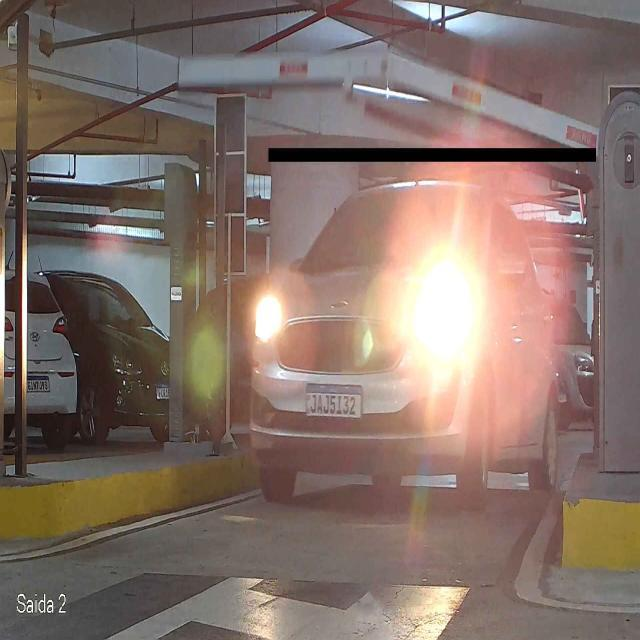mercosul_plate: (302, 381, 364, 420)
